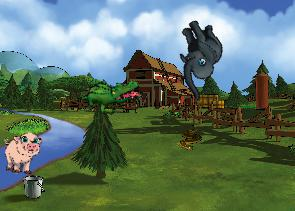crocodile: (76, 64, 145, 126)
elephant: (156, 13, 241, 102)
pig: (1, 130, 43, 176)
